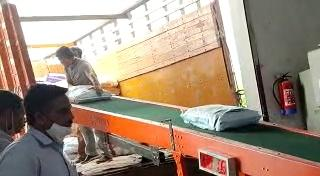box: (181, 105, 260, 131), (228, 105, 228, 106)
